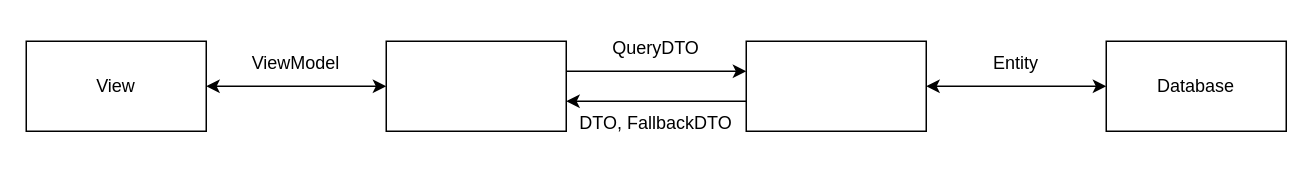
Image size: 1313x171. Some labels were removed from this diagram. Each missing label, with the centre of its shape:
"Controller" goes at [475,85].
"Service" goes at [835,85].
